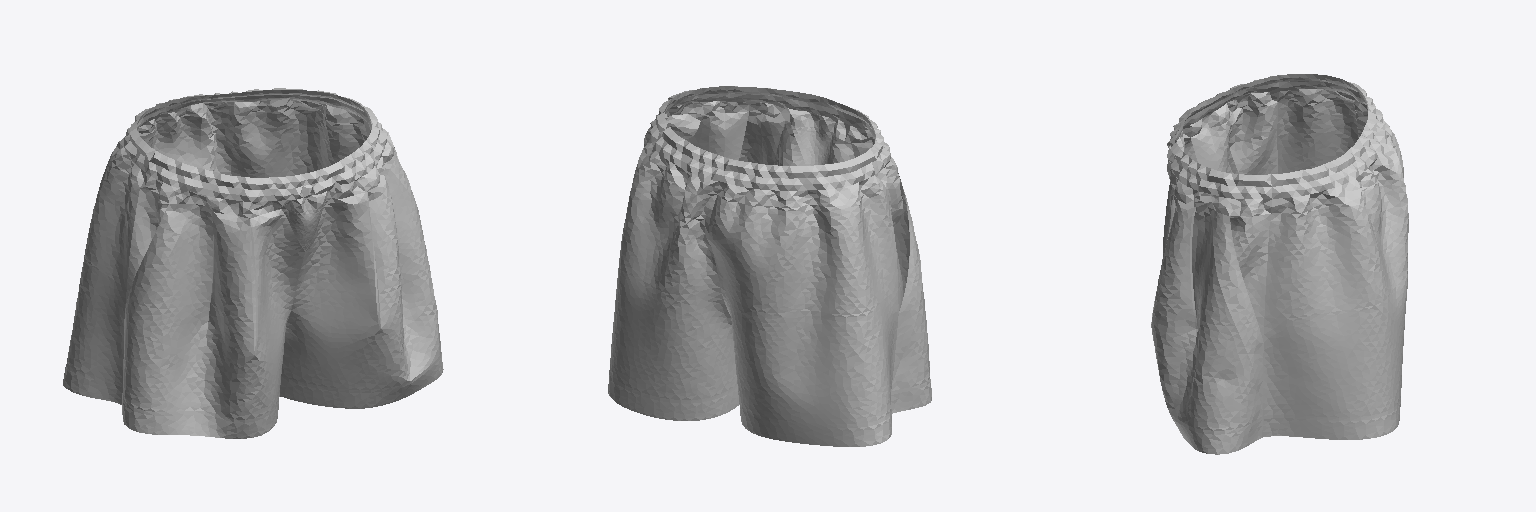
The model's file is XLarge_Tall.obj.
3 views of the same model, side by side, from view 1: azimuth 30°, elevation 25°; view 2: azimuth 150°, elevation 25°; view 3: azimuth 270°, elevation 25° (orthographic).
Parts seen in each view (by area): view 1: duanku.004; view 2: duanku.004; view 3: duanku.004.
Part boxes in pixels (x1,y1,x2,y2): duanku.004: (63, 88, 443, 438); duanku.004: (608, 86, 931, 446); duanku.004: (1151, 74, 1408, 454).
Size of the model in its own units: 0.62 by 0.5179 by 0.4477.